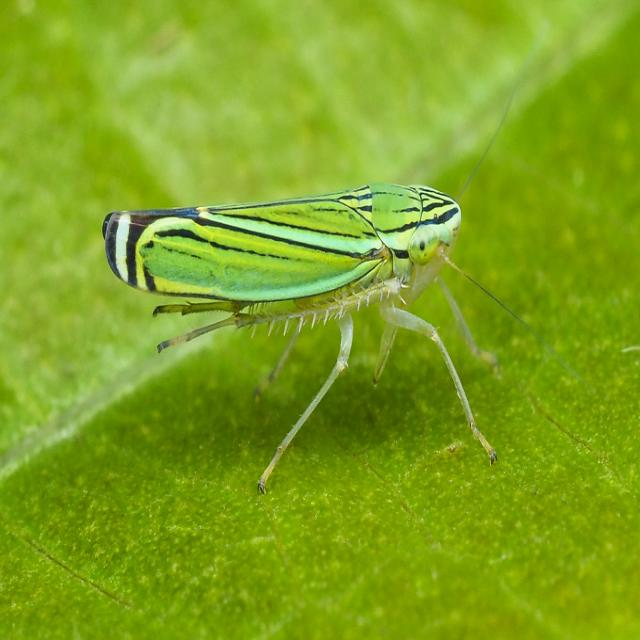Yechan: (87, 173, 503, 390)
